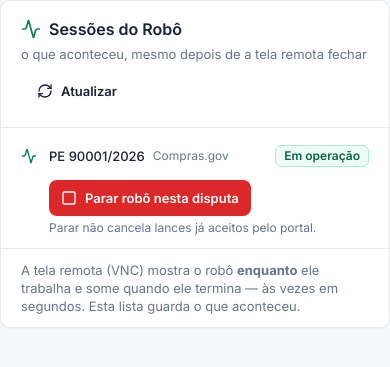
SessoesDoRobo — parar uma sessão › confirmada: diz a hora da confirmação no horário de Brasília
Click the button "Parar robô nesta disputa". click: (150, 198)
box: [49,180,251,216]
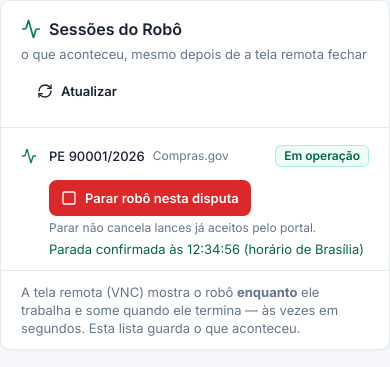
Expected: the text "Parada confirmada às 12:34:56 (horário de Brasília)" is shown, [49,240,369,258]
